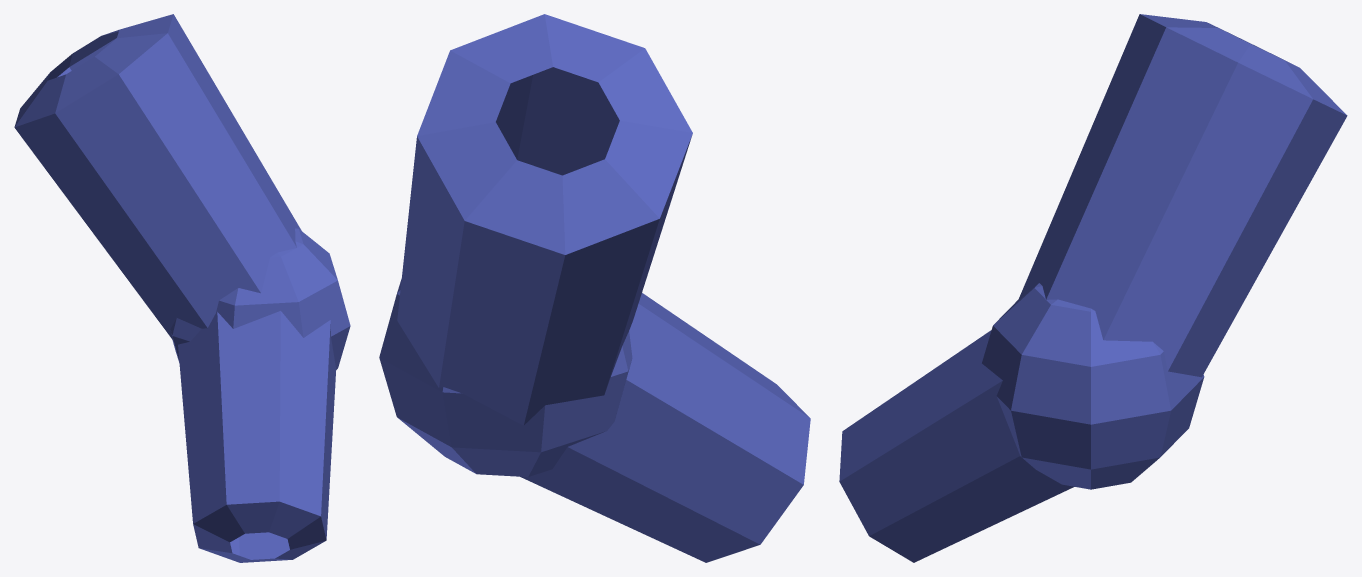
The model's file is abyss_mage_sleeve_R.obj.
3 views of the same model, side by side, from view 1: azimuth 30°, elevation 25°; view 2: azimuth 150°, elevation 25°; view 3: azimuth 270°, elevation 25° (orthographic). The views are drawn at different scales.
Visible parts, largest first — view 1: sleeve_upper_R, sleeve_lower_R, sleeve_joint_R; view 2: sleeve_upper_R, sleeve_lower_R, sleeve_joint_R; view 3: sleeve_upper_R, sleeve_joint_R, sleeve_lower_R.
Part boxes in pixels (x1,y1,x2,y2): sleeve_upper_R: (14, 14, 301, 340); sleeve_lower_R: (178, 311, 336, 562); sleeve_joint_R: (170, 228, 350, 369); sleeve_upper_R: (397, 14, 692, 425); sleeve_lower_R: (520, 293, 810, 562); sleeve_joint_R: (379, 279, 632, 476); sleeve_upper_R: (1018, 14, 1347, 377); sleeve_joint_R: (982, 283, 1204, 489); sleeve_lower_R: (839, 330, 1074, 562).
Bounding box in the file's own units: 0.2737 × 0.4609 × 0.3997.
